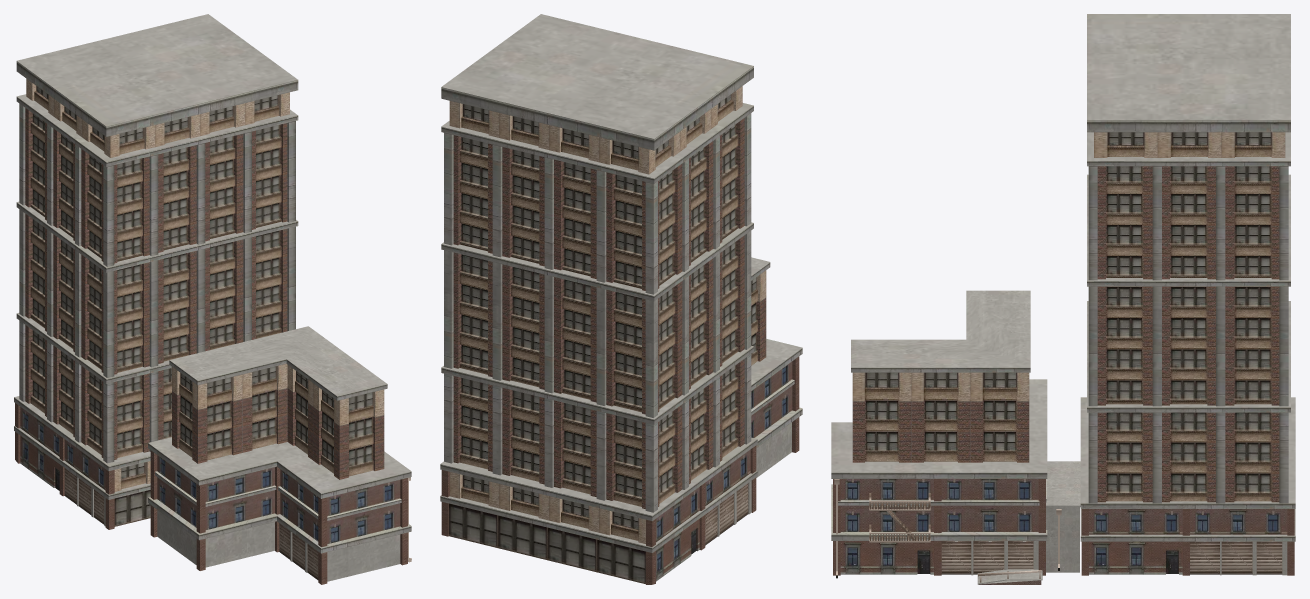
The model's file is game_ready_city_buildings.glb.
The picture shows the model from 3 angles, left to right: view 1: azimuth 30°, elevation 25°; view 2: azimuth 150°, elevation 25°; view 3: azimuth 270°, elevation 25°; orthographic projection. The views are drawn at different scales.
Parts seen in each view (by area): view 1: Object_4; view 2: Object_4; view 3: Object_4.
Part boxes in pixels (x1=…): Object_4: x1=14, y1=14, x2=411, y2=584; Object_4: x1=440, y1=14, x2=802, y2=584; Object_4: x1=831, y1=14, x2=1295, y2=584.
Size of the model in its own units: 1.73 by 3.22 by 2.96.
1 material, 1 textured.
